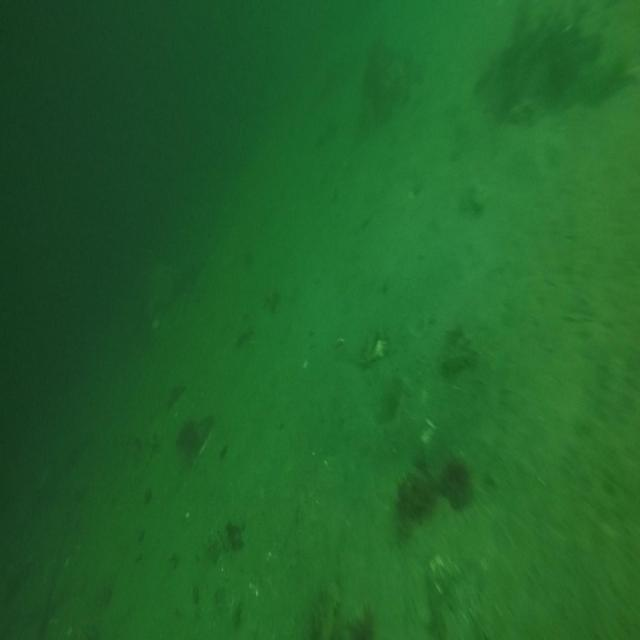holothurian: (309, 567, 343, 640)
